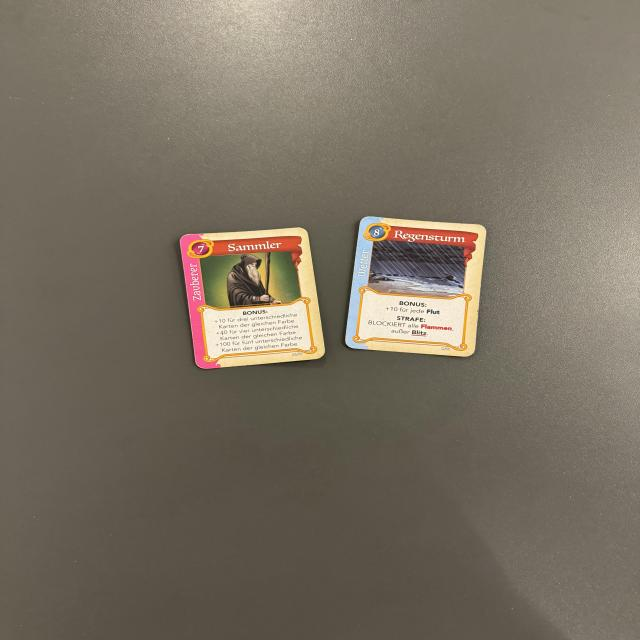Collector: (179, 228, 328, 370)
Rainstorm: (339, 213, 488, 358)
